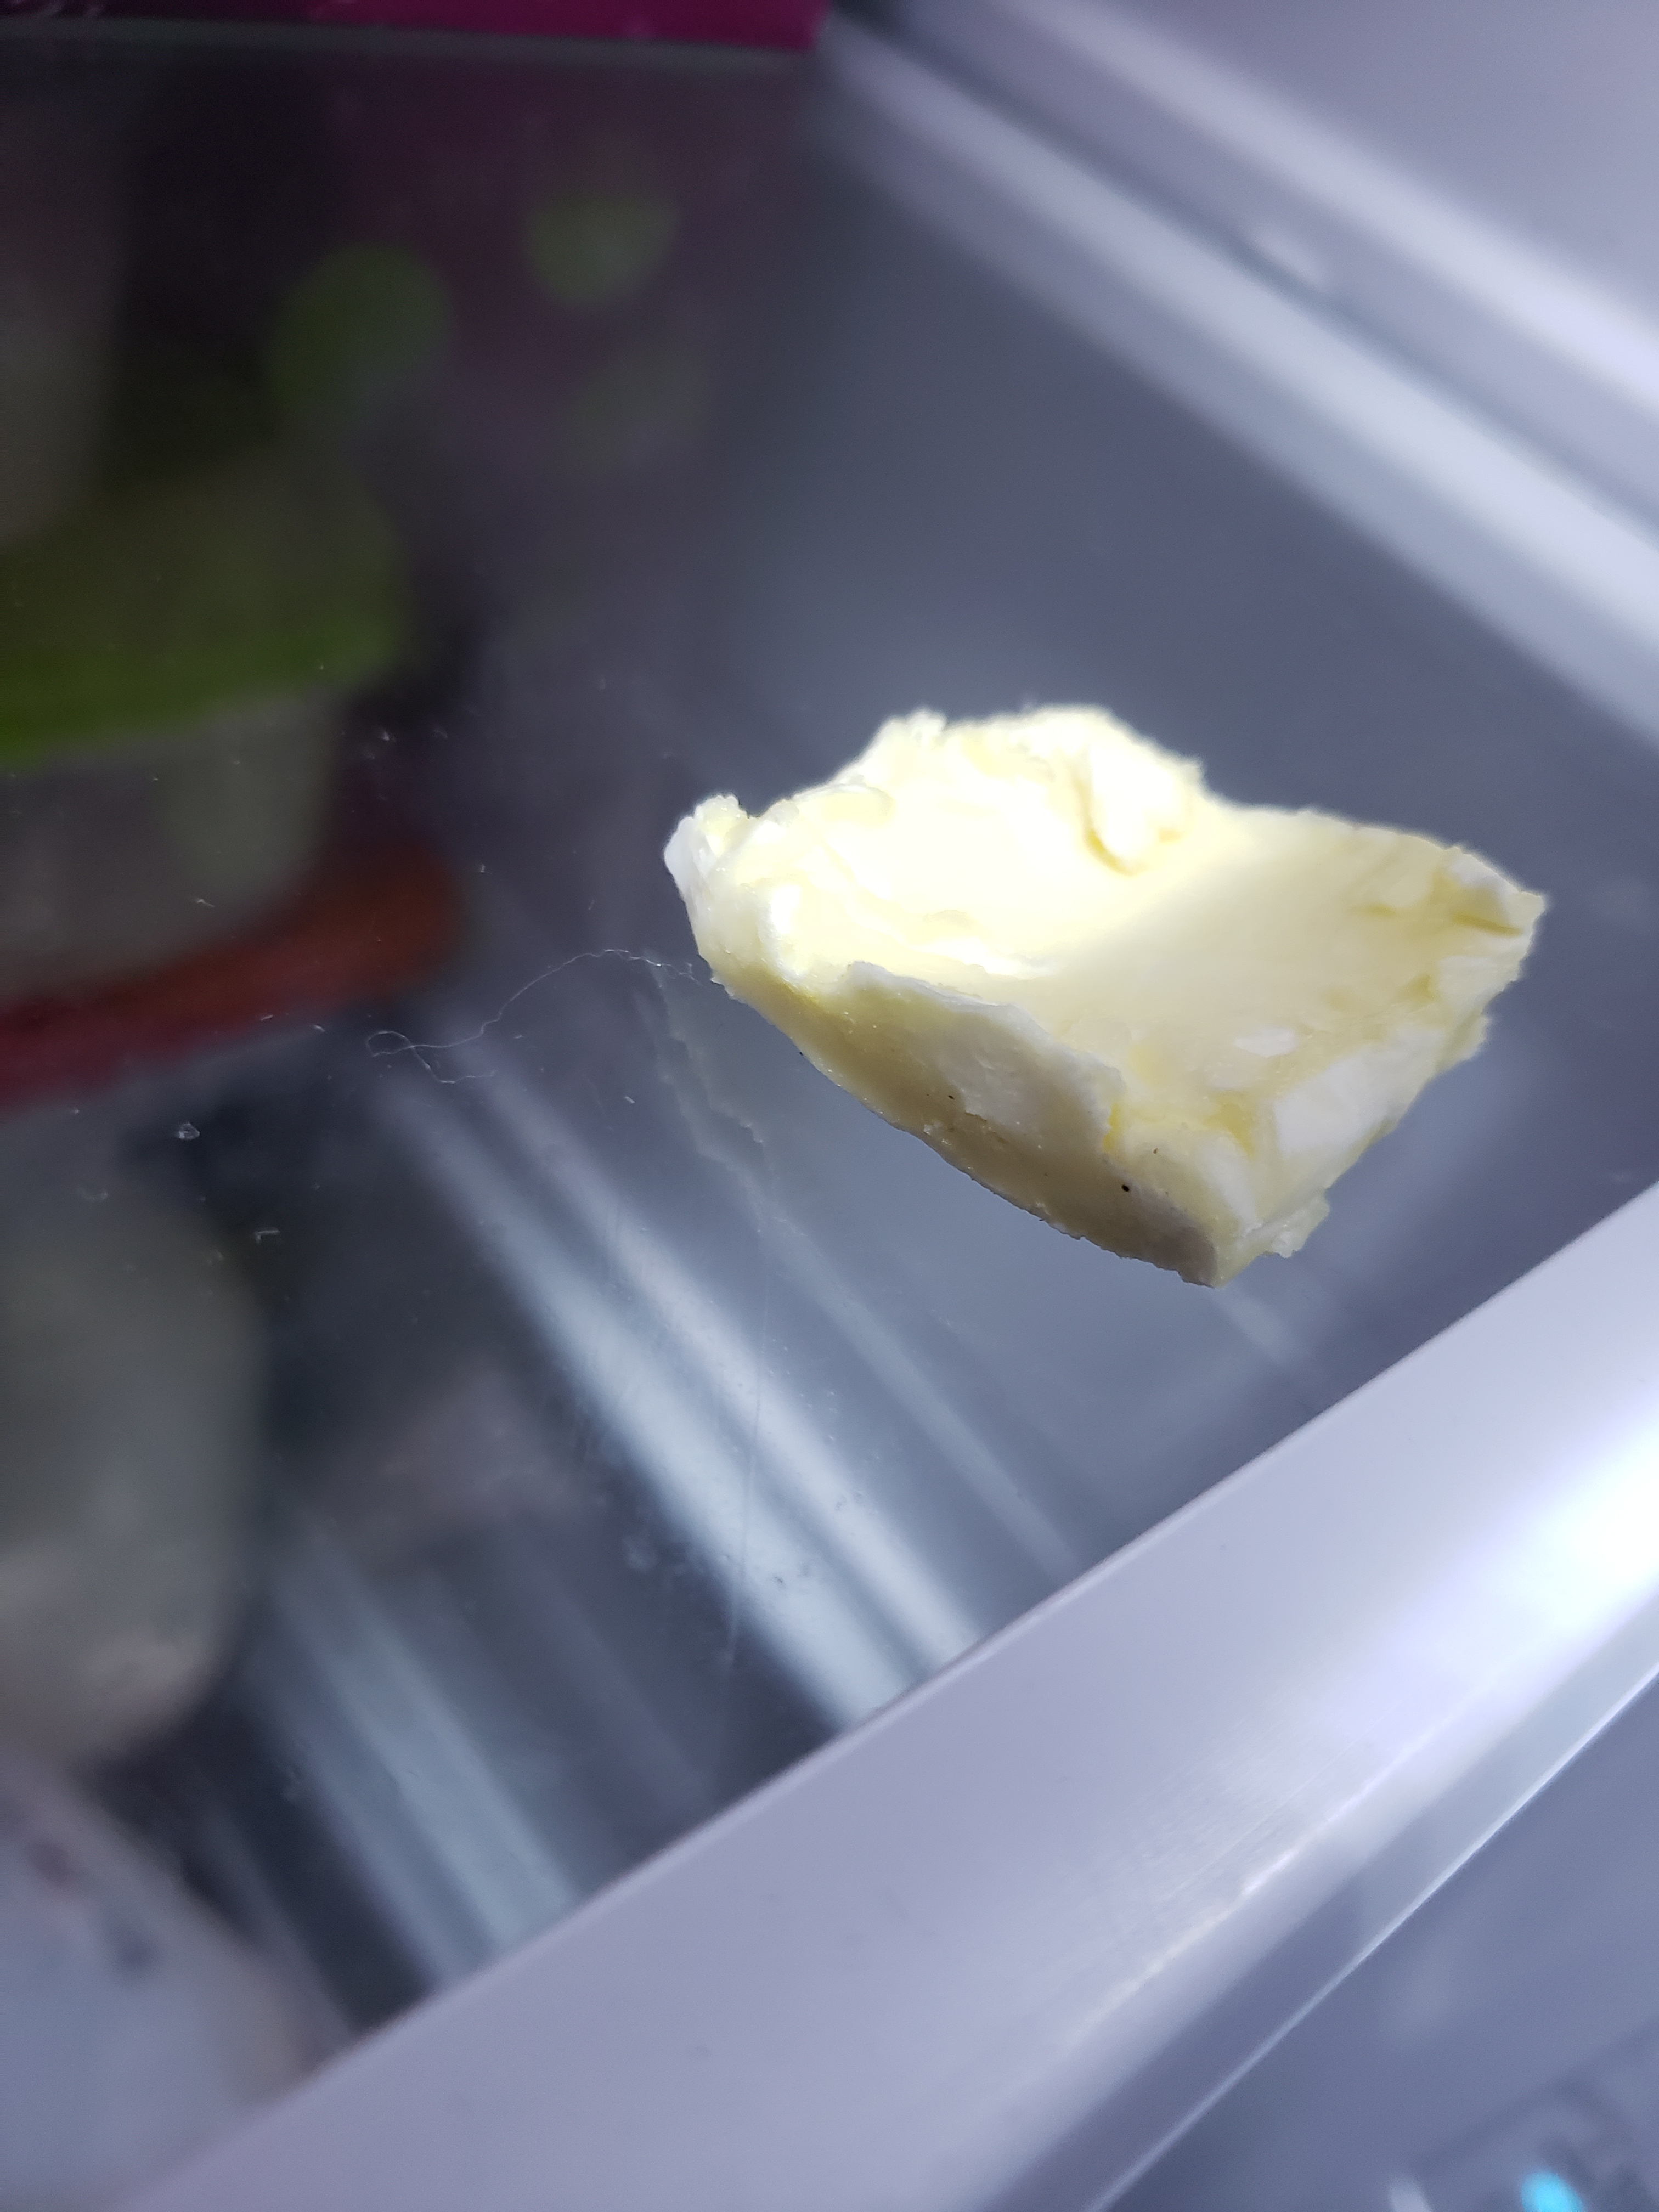Butter: (667, 707, 1553, 1273)
